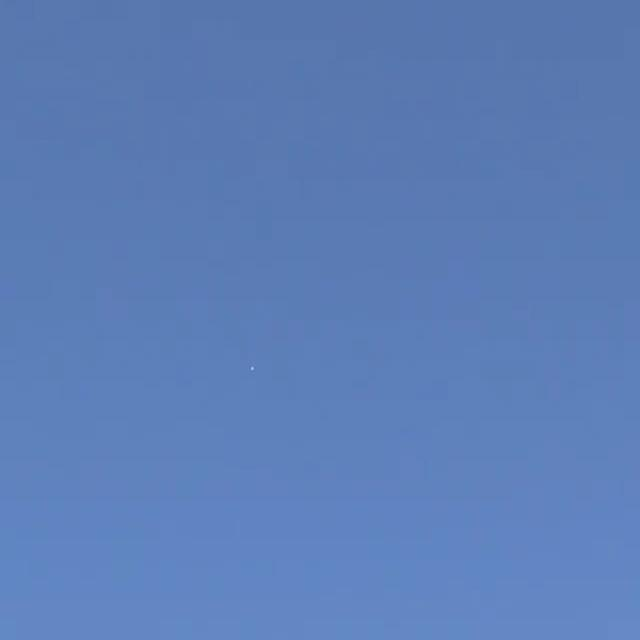AirPlane: (240, 352, 266, 386)
